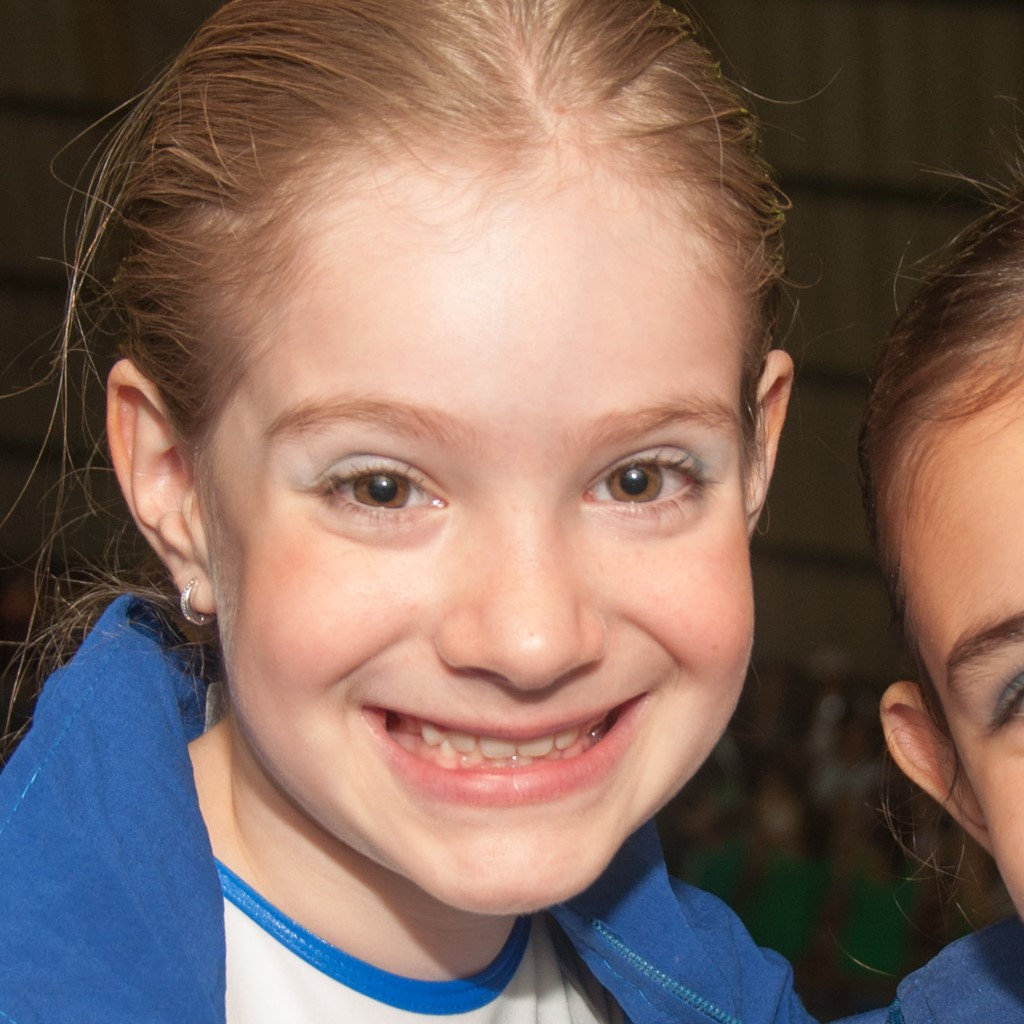sin_mascara: (150, 77, 776, 933)
